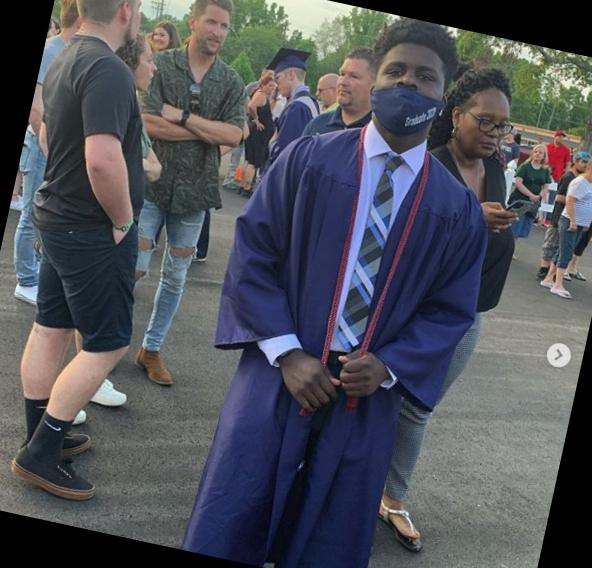mask_weared_incorrect: (372, 57, 450, 132)
without_mask: (462, 99, 515, 160), (194, 4, 235, 57), (332, 62, 371, 113), (136, 50, 163, 93), (128, 2, 146, 44), (312, 77, 336, 108), (151, 27, 174, 52), (272, 73, 290, 97), (529, 145, 547, 166), (264, 79, 275, 93), (577, 161, 587, 171), (589, 161, 592, 184), (557, 135, 564, 144)
